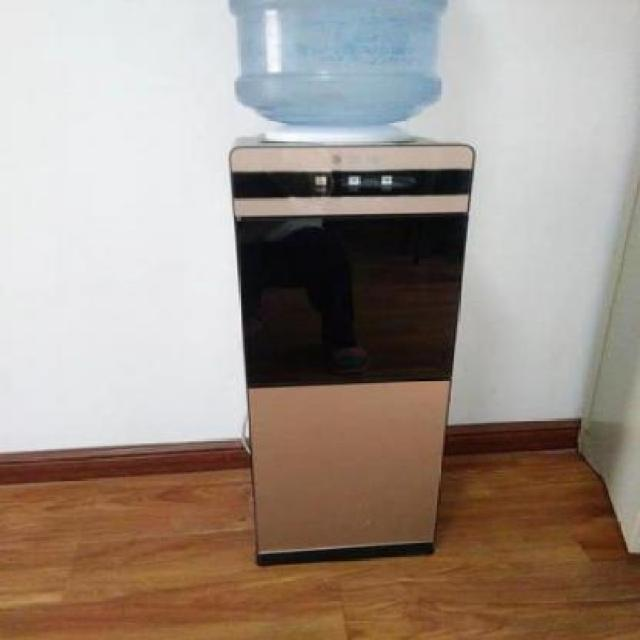cooler: (228, 0, 480, 569)
